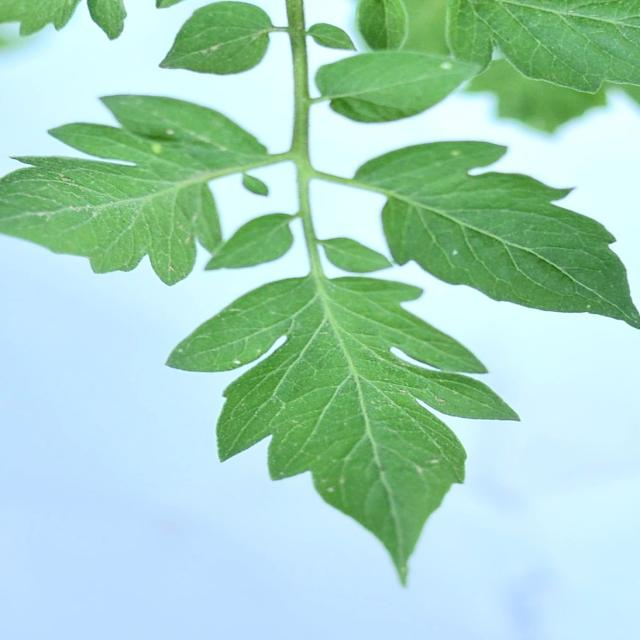healthy: (160, 277, 566, 586), (339, 135, 640, 332), (0, 86, 295, 287), (443, 0, 640, 97), (310, 47, 488, 125), (135, 0, 291, 76)
